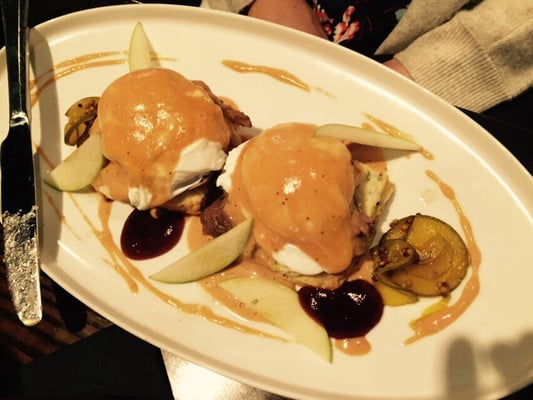sandwich: (0, 14, 44, 328)
sushi: (14, 13, 533, 400)
